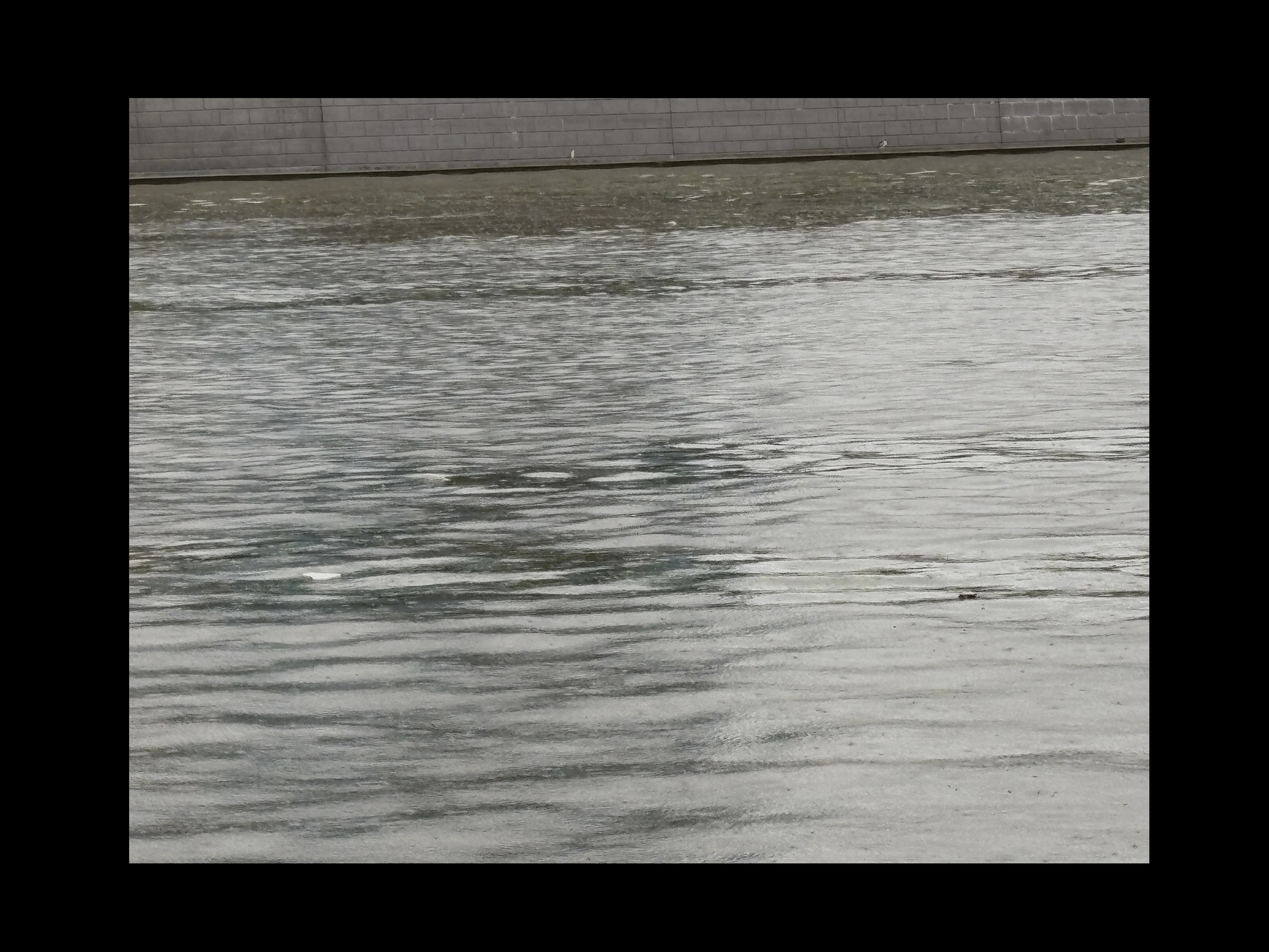Plastic wastes: (299, 567, 345, 584), (957, 589, 978, 601)
